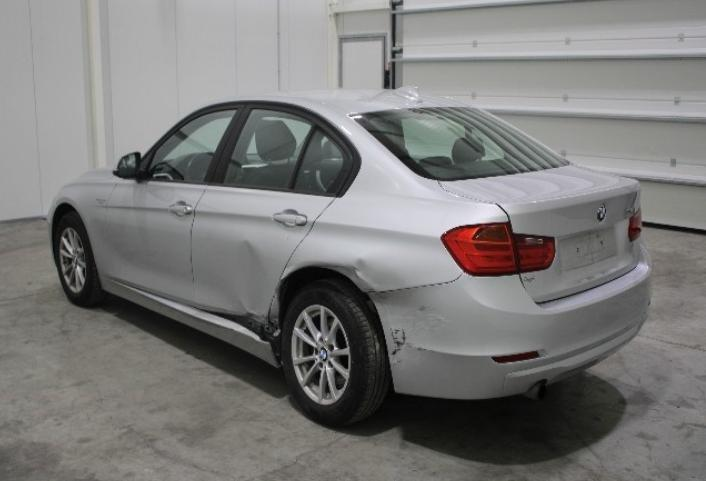Back-bumper: (367, 244, 652, 399)
Back-door: (191, 100, 353, 331)
Back-wheel: (281, 279, 392, 427)
Back-window: (224, 109, 349, 193)
Back-windshield: (348, 107, 569, 181)
Fender: (48, 176, 121, 278)
Front-bumper: (48, 222, 54, 257)
Front-door: (105, 101, 246, 306)
Front-wheel: (55, 211, 107, 308)
Front-window: (147, 109, 238, 181)
Hood: (80, 167, 113, 178)
Mirror: (112, 152, 146, 182)
Quarter-panel: (270, 171, 507, 335)
Rocker-panel: (99, 276, 280, 368)
Roof: (212, 86, 474, 116)
Tail-light: (442, 222, 556, 277), (628, 206, 642, 242)
Trunk: (439, 163, 641, 302)
